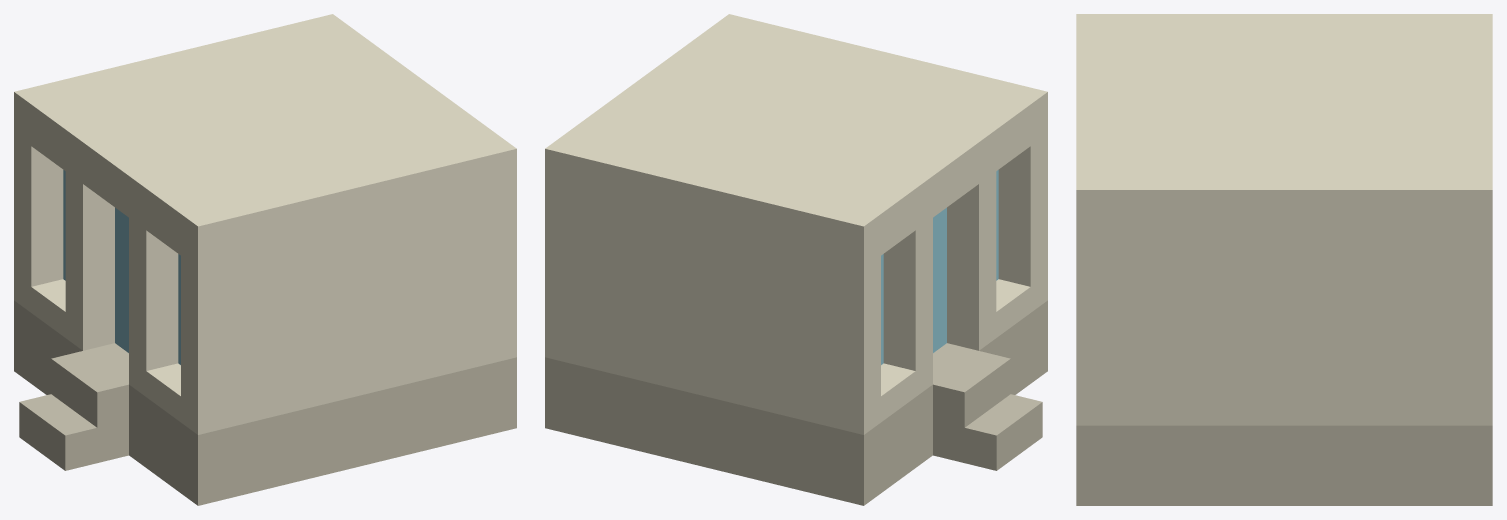
Rendered from modularBuildings_024.fbx.
3 renders of one model, left to right at view 1: azimuth 30°, elevation 25°; view 2: azimuth 150°, elevation 25°; view 3: azimuth 270°, elevation 25°, orthographic. The views are drawn at different scales.
Visible parts, largest first — view 1: Mesh1_Group1 Model; view 2: Mesh1_Group1 Model; view 3: Mesh1_Group1 Model.
Boxes of the visible parts, left/top/right/bottom form: Mesh1_Group1 Model: left=14, top=14, right=516, bottom=505; Mesh1_Group1 Model: left=545, top=14, right=1047, bottom=505; Mesh1_Group1 Model: left=1076, top=14, right=1492, bottom=505.
Bounding box in the file's own units: 1.2 × 0.8375 × 1.
